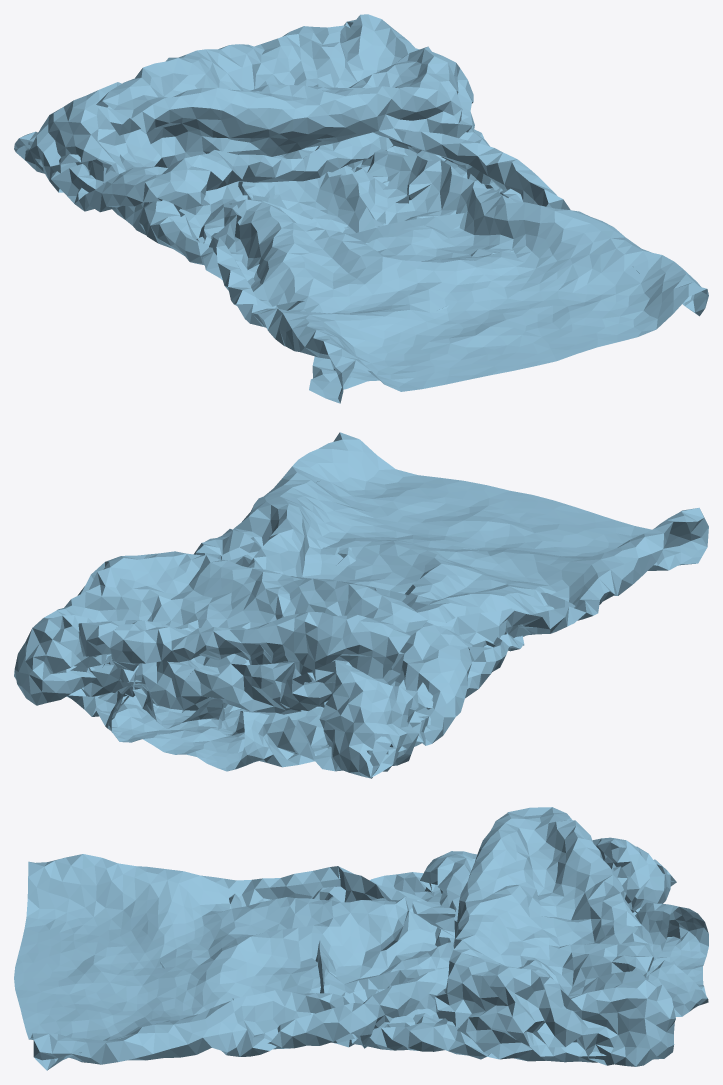
File: frame_19.glb
The picture shows the model from 3 angles, top to bottom: view 1: azimuth 30°, elevation 25°; view 2: azimuth 150°, elevation 25°; view 3: azimuth 270°, elevation 25°; orthographic projection. The views are drawn at different scales.
Visible parts, largest first — view 1: frame_19.obj; view 2: frame_19.obj; view 3: frame_19.obj.
Part boxes in pixels (x1=…): frame_19.obj: x1=14, y1=14, x2=708, y2=403; frame_19.obj: x1=14, y1=432, x2=708, y2=778; frame_19.obj: x1=14, y1=807, x2=708, y2=1070.
Bounding box in the file's own units: 0.9068 × 0.2689 × 1.43.
